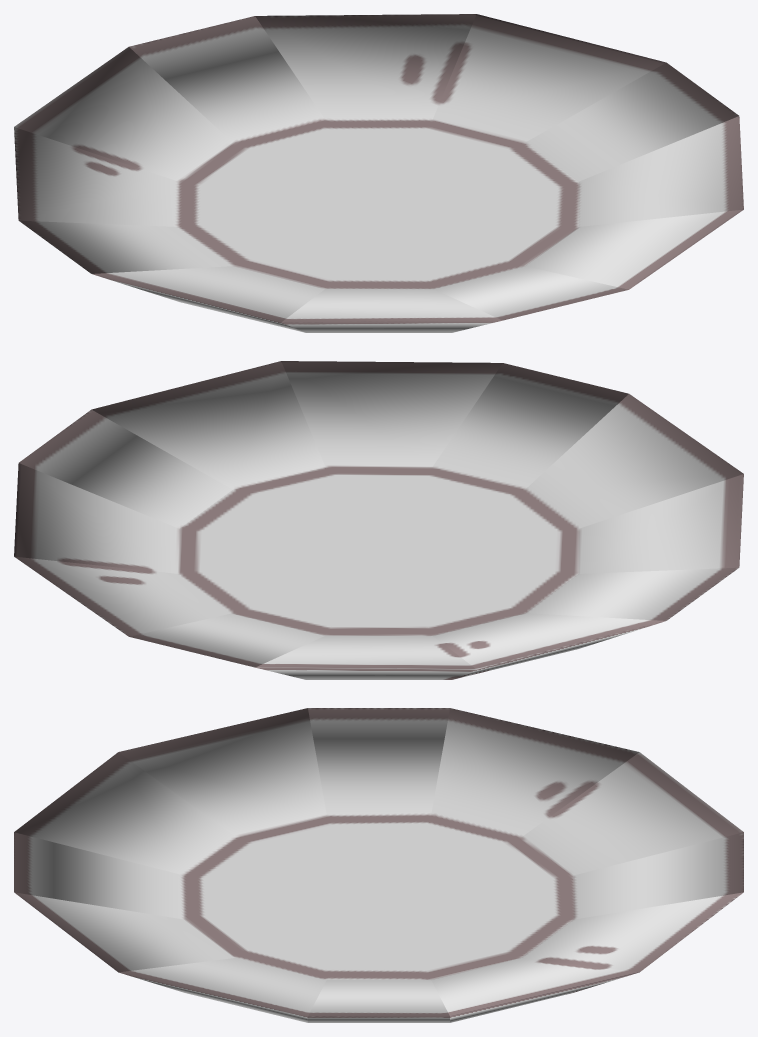
File: plate.fbx
The picture shows the model from 3 angles, top to bottom: view 1: azimuth 30°, elevation 25°; view 2: azimuth 150°, elevation 25°; view 3: azimuth 270°, elevation 25°; orthographic projection. The views are drawn at different scales.
Parts seen in each view (by area): view 1: plate; view 2: plate; view 3: plate.
Boxes of the visible parts, bbox=[...] form: plate: bbox=[14, 14, 743, 332]; plate: bbox=[14, 361, 743, 679]; plate: bbox=[14, 708, 743, 1022].
Size of the model in its own units: 188 by 21.88 by 187.
